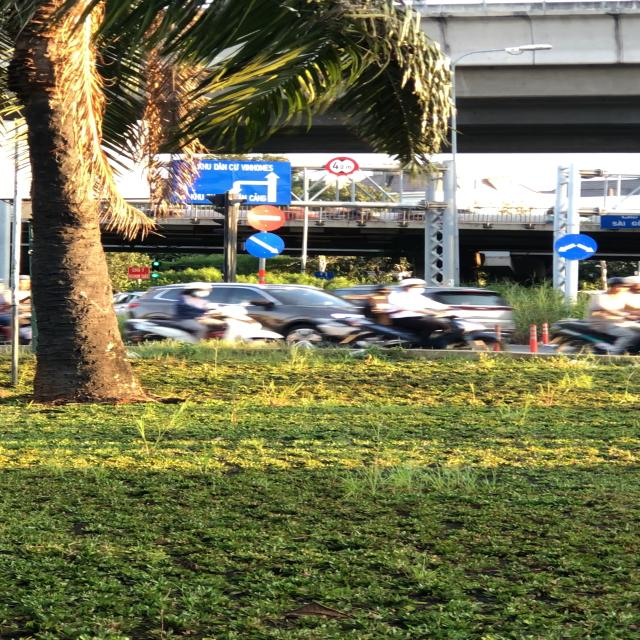Bien bao cam di nguoc chieu: (244, 203, 288, 230)
Bien bao han che chieu cao: (327, 155, 360, 177)
Bien bao huong phai di vong chuong ngai vat: (552, 231, 602, 264), (238, 231, 288, 261)
